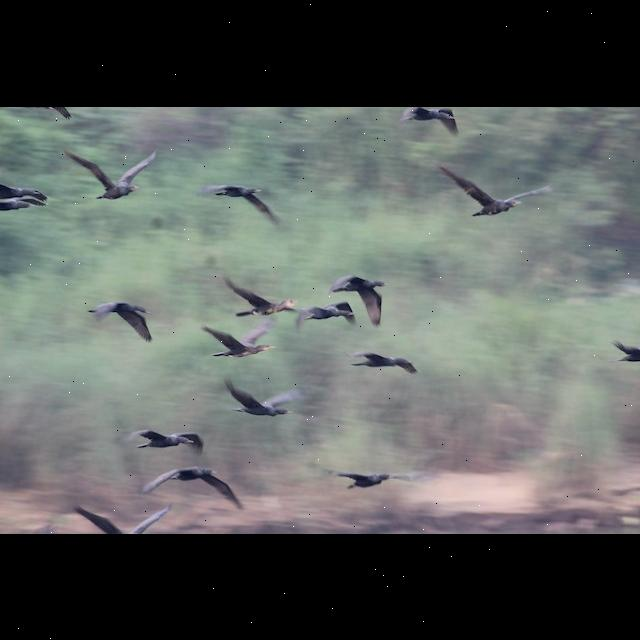cormorant: (438, 163, 546, 225), (70, 150, 162, 203), (196, 178, 282, 222), (213, 377, 297, 419), (200, 322, 278, 360), (126, 421, 204, 459), (86, 298, 156, 340), (331, 270, 385, 324), (329, 460, 421, 490), (224, 276, 294, 314), (354, 348, 418, 387)
